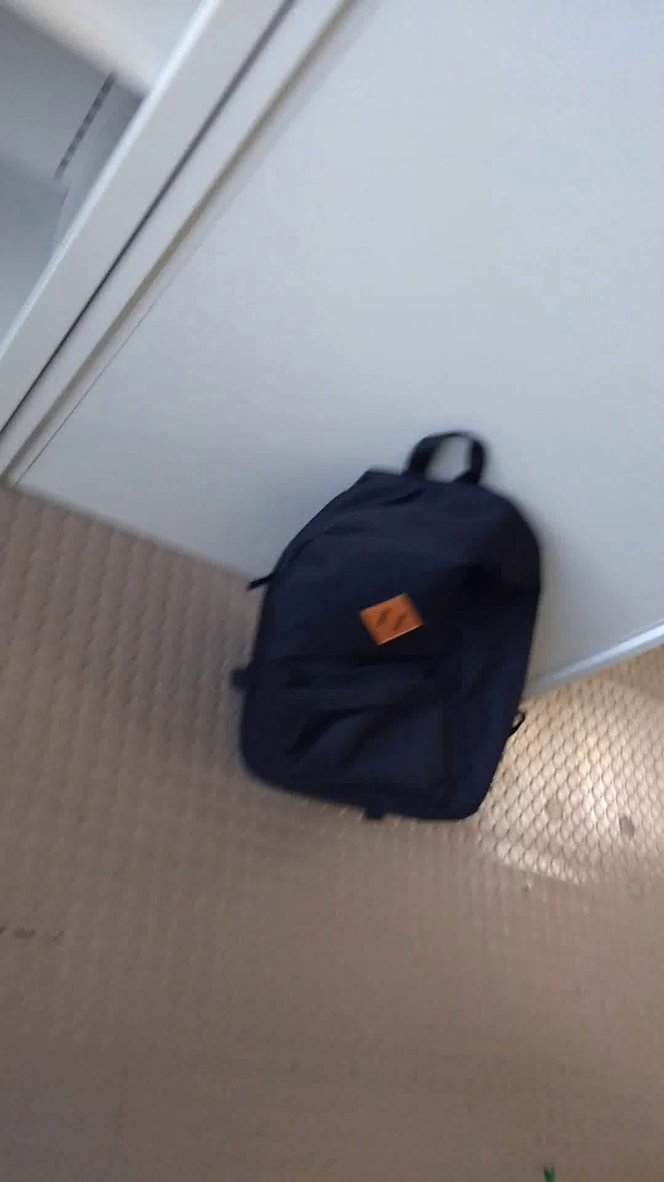bag: (214, 397, 585, 858)
